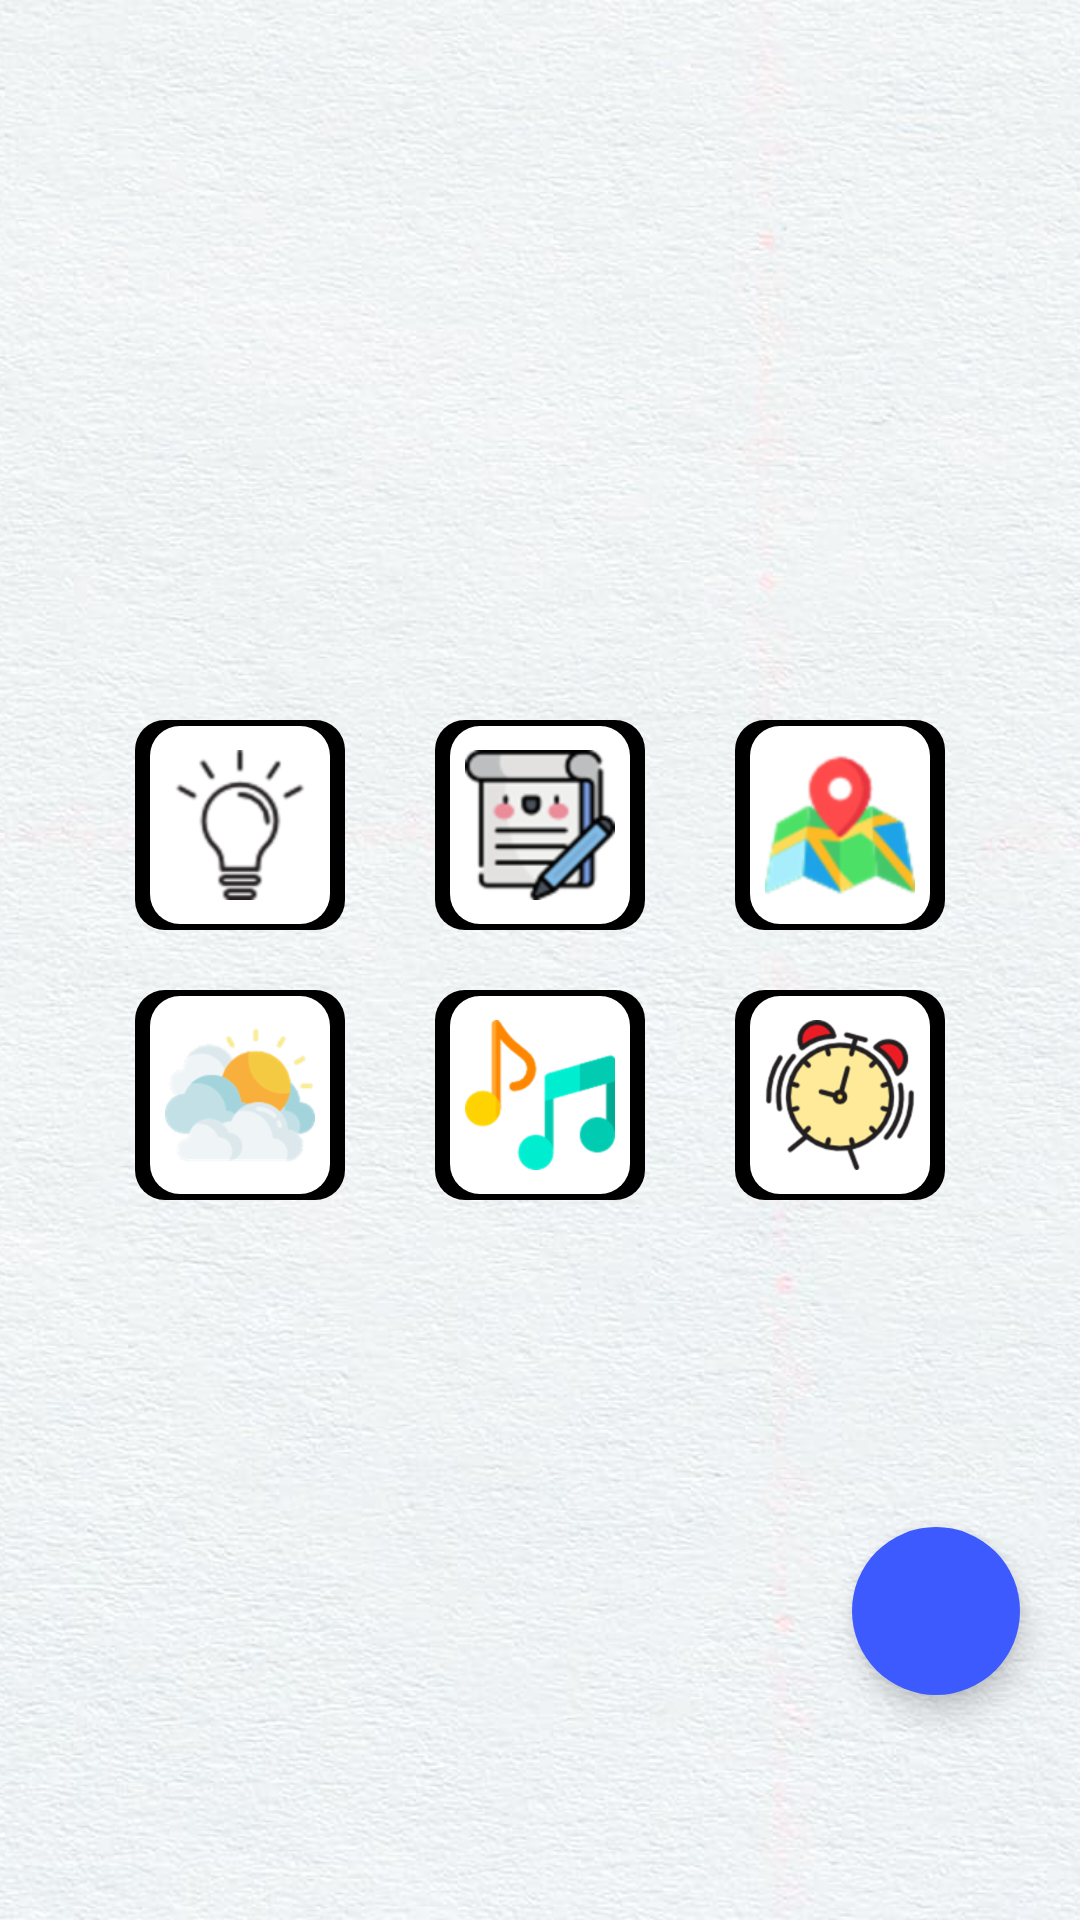

Named icons in this screenshot (1080 x 1920) and their bounding boxes, [left=x1, top=y1, right=x2, bottom=y2]:
clock: [left=735, top=990, right=945, bottom=1200]
map: [left=735, top=720, right=945, bottom=930]
music: [left=435, top=990, right=645, bottom=1200]
notepad: [left=435, top=720, right=645, bottom=930]
weather: [left=135, top=990, right=345, bottom=1200]
